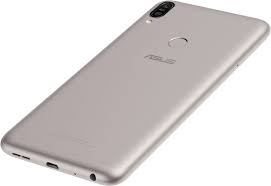asus: (1, 1, 271, 185)
